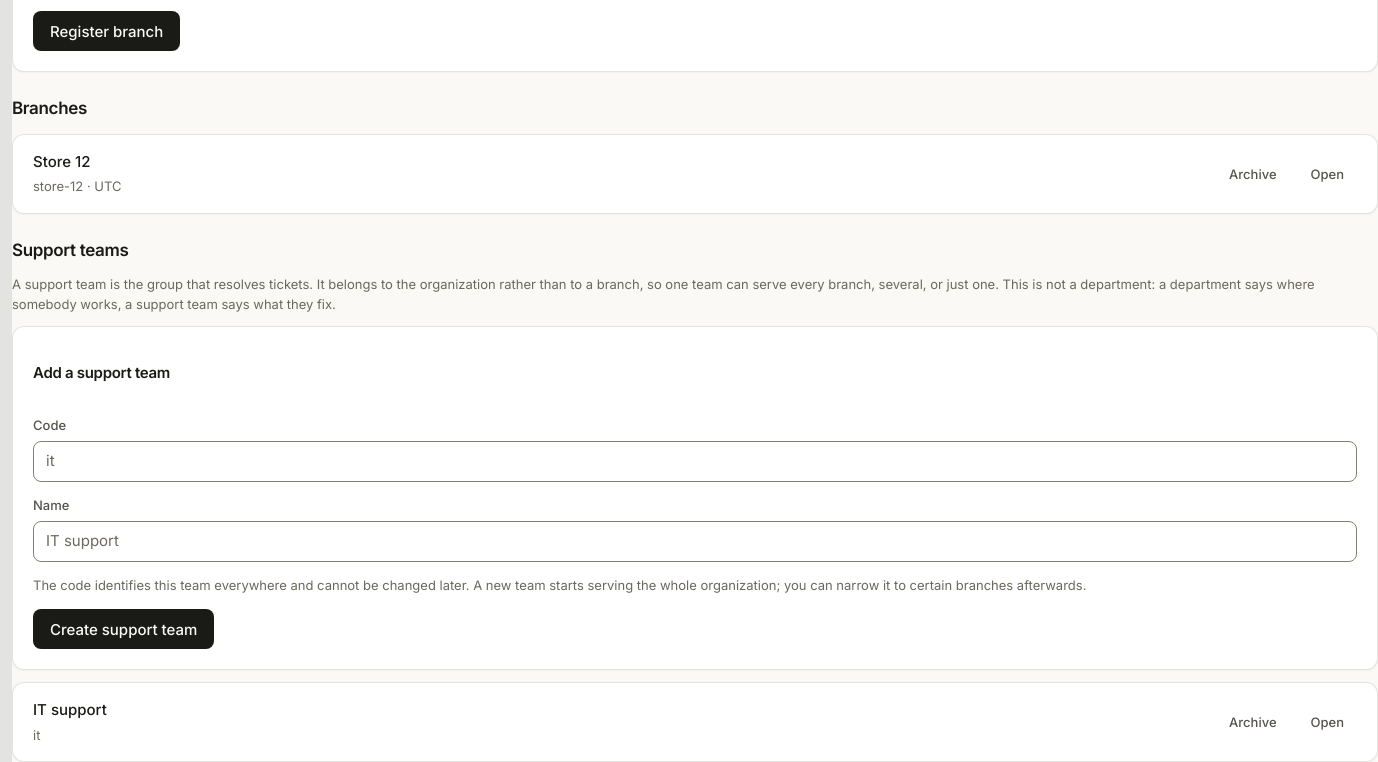
Test: the support teams section › explains itself when the directory cannot be read
The width and height of the screenshot is (1378, 762).
(page scrolled)
Expected: the text "IT support" is shown, [33, 699, 107, 722]
Click the button "Open" in the row of "IT support".
click(1327, 722)  # box [1298, 706, 1357, 738]
(page scrolled)
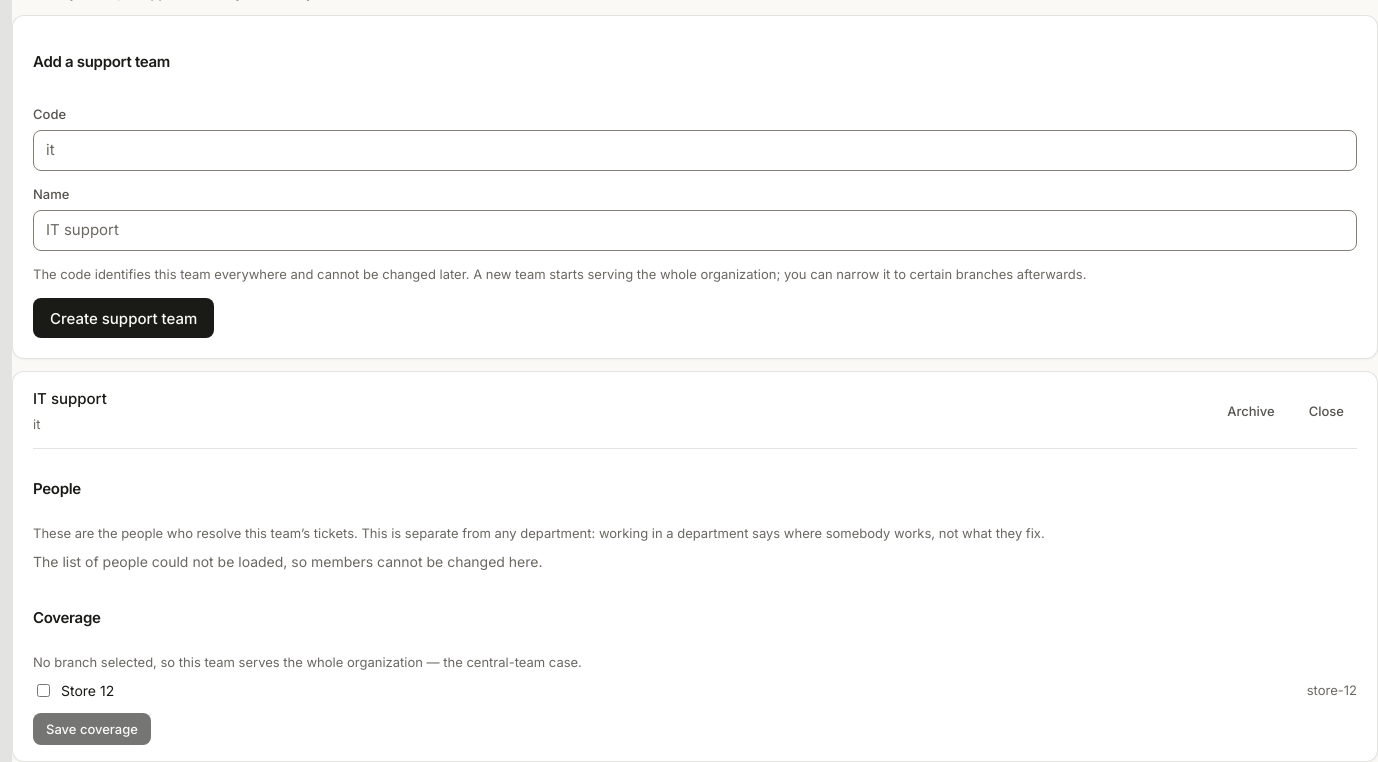
Result: the text "list of people could not be loaded" is shown at [33, 553, 542, 570]
